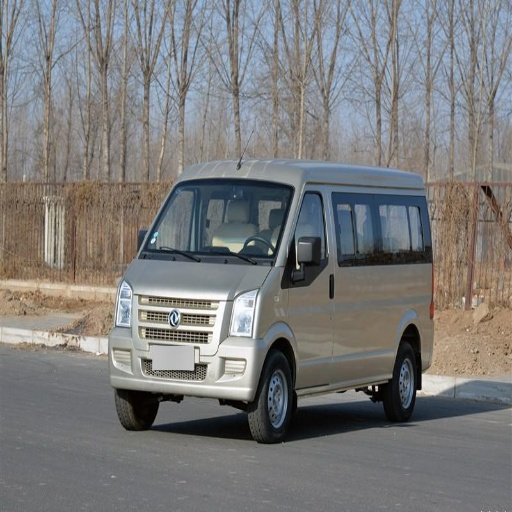front_bumper: (113, 294, 266, 399)
front_glass: (144, 180, 294, 265)
front_left_door: (289, 186, 354, 385)
trunk: (382, 269, 437, 356)
